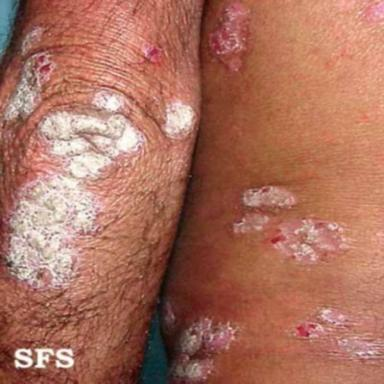Psoriasis: (4, 91, 143, 288), (3, 27, 55, 122), (169, 317, 237, 384), (270, 217, 350, 263), (232, 186, 295, 234), (207, 2, 249, 71), (294, 307, 351, 339), (162, 100, 196, 138), (335, 336, 382, 359), (158, 295, 176, 336), (140, 43, 163, 63), (361, 1, 384, 20)
